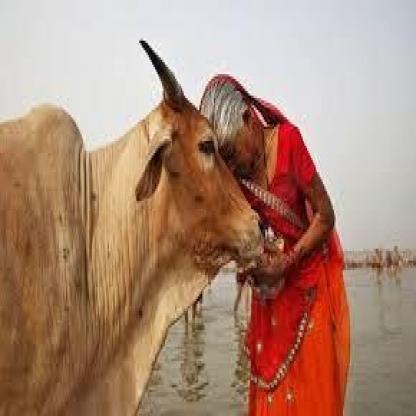cow: (1, 38, 266, 416)
